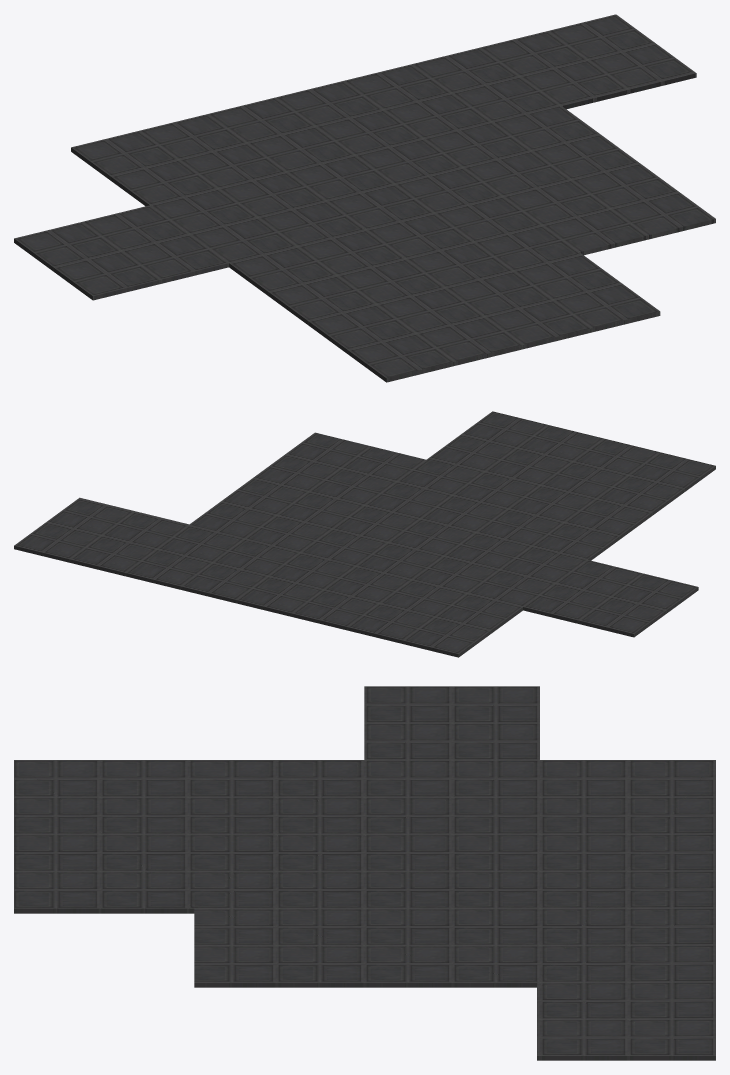
The model's file is Homeworld_Interior_Dq_Room_K_Ceiling_01_Vo.fbx.
3 renders of one model, top to bottom at view 1: azimuth 30°, elevation 25°; view 2: azimuth 150°, elevation 25°; view 3: azimuth 270°, elevation 25°, orthographic. The views are drawn at different scales.
Visible parts, largest first — view 1: Homeworld_Interior_Dq_Room_K_Ceiling_01_Vo; view 2: Homeworld_Interior_Dq_Room_K_Ceiling_01_Vo; view 3: Homeworld_Interior_Dq_Room_K_Ceiling_01_Vo.
Boxes of the visible parts, box(x1,y1,x2,y2) form: Homeworld_Interior_Dq_Room_K_Ceiling_01_Vo: box(14, 14, 715, 382); Homeworld_Interior_Dq_Room_K_Ceiling_01_Vo: box(14, 411, 715, 657); Homeworld_Interior_Dq_Room_K_Ceiling_01_Vo: box(14, 686, 715, 1060).
Bounding box in the file's own units: 24.99 × 0.15 × 20.05.
